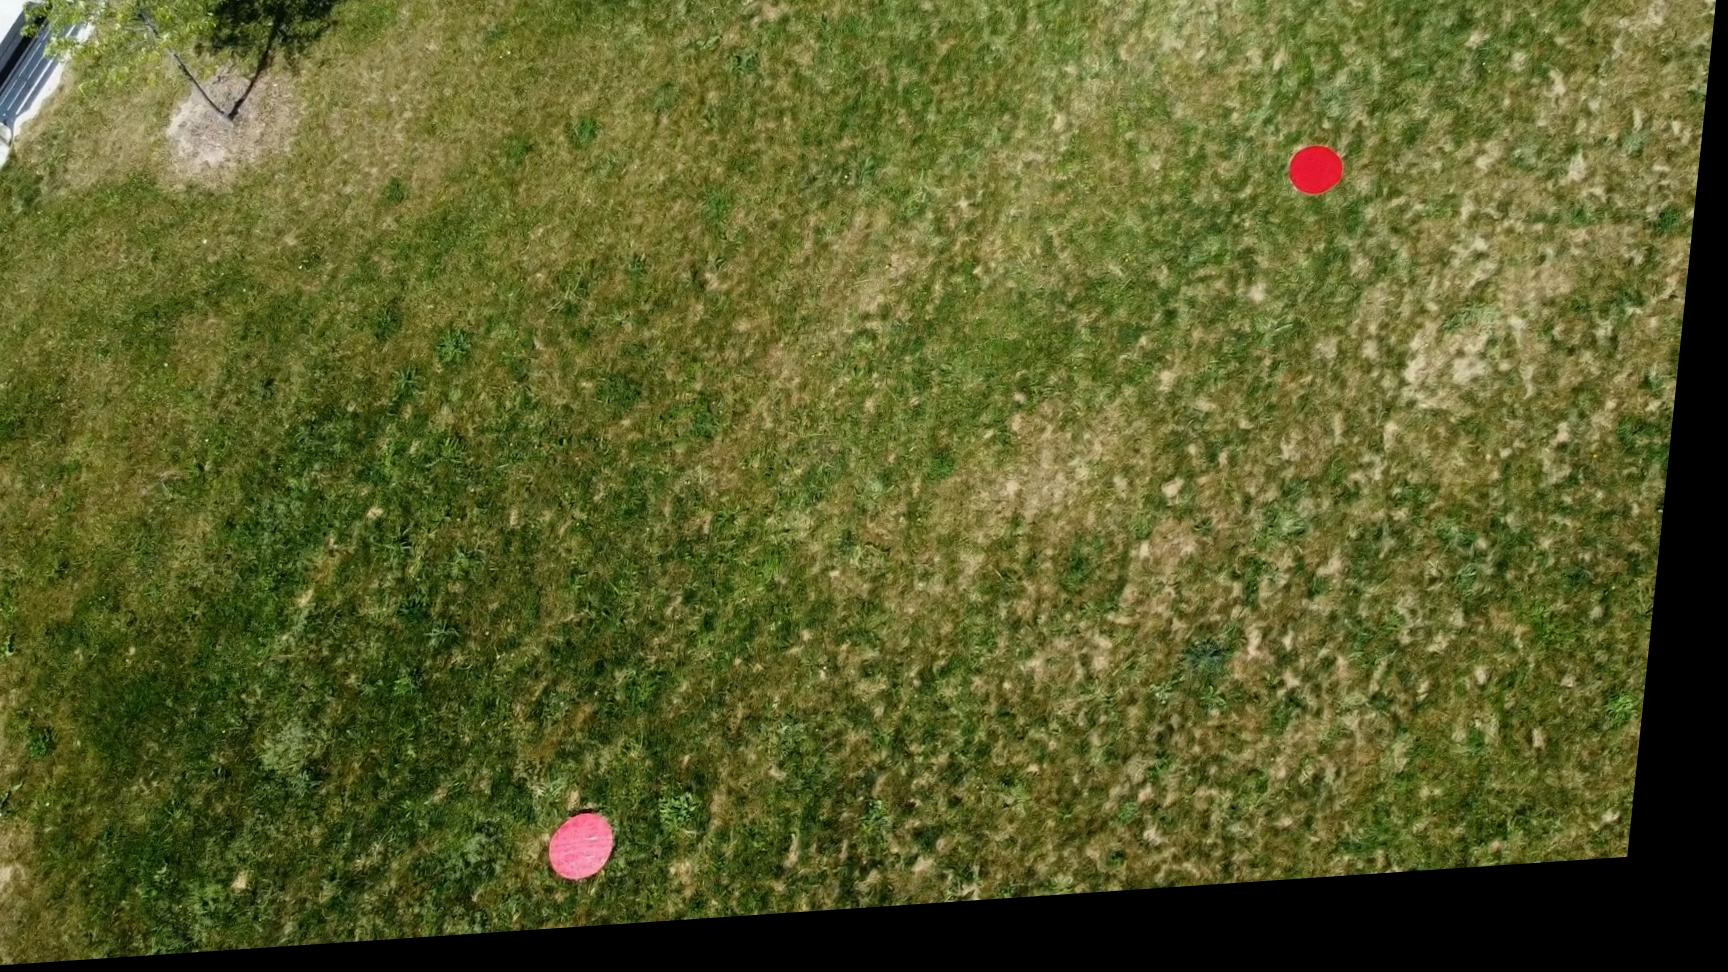Red: (564, 819, 640, 895), (1290, 160, 1354, 217)
